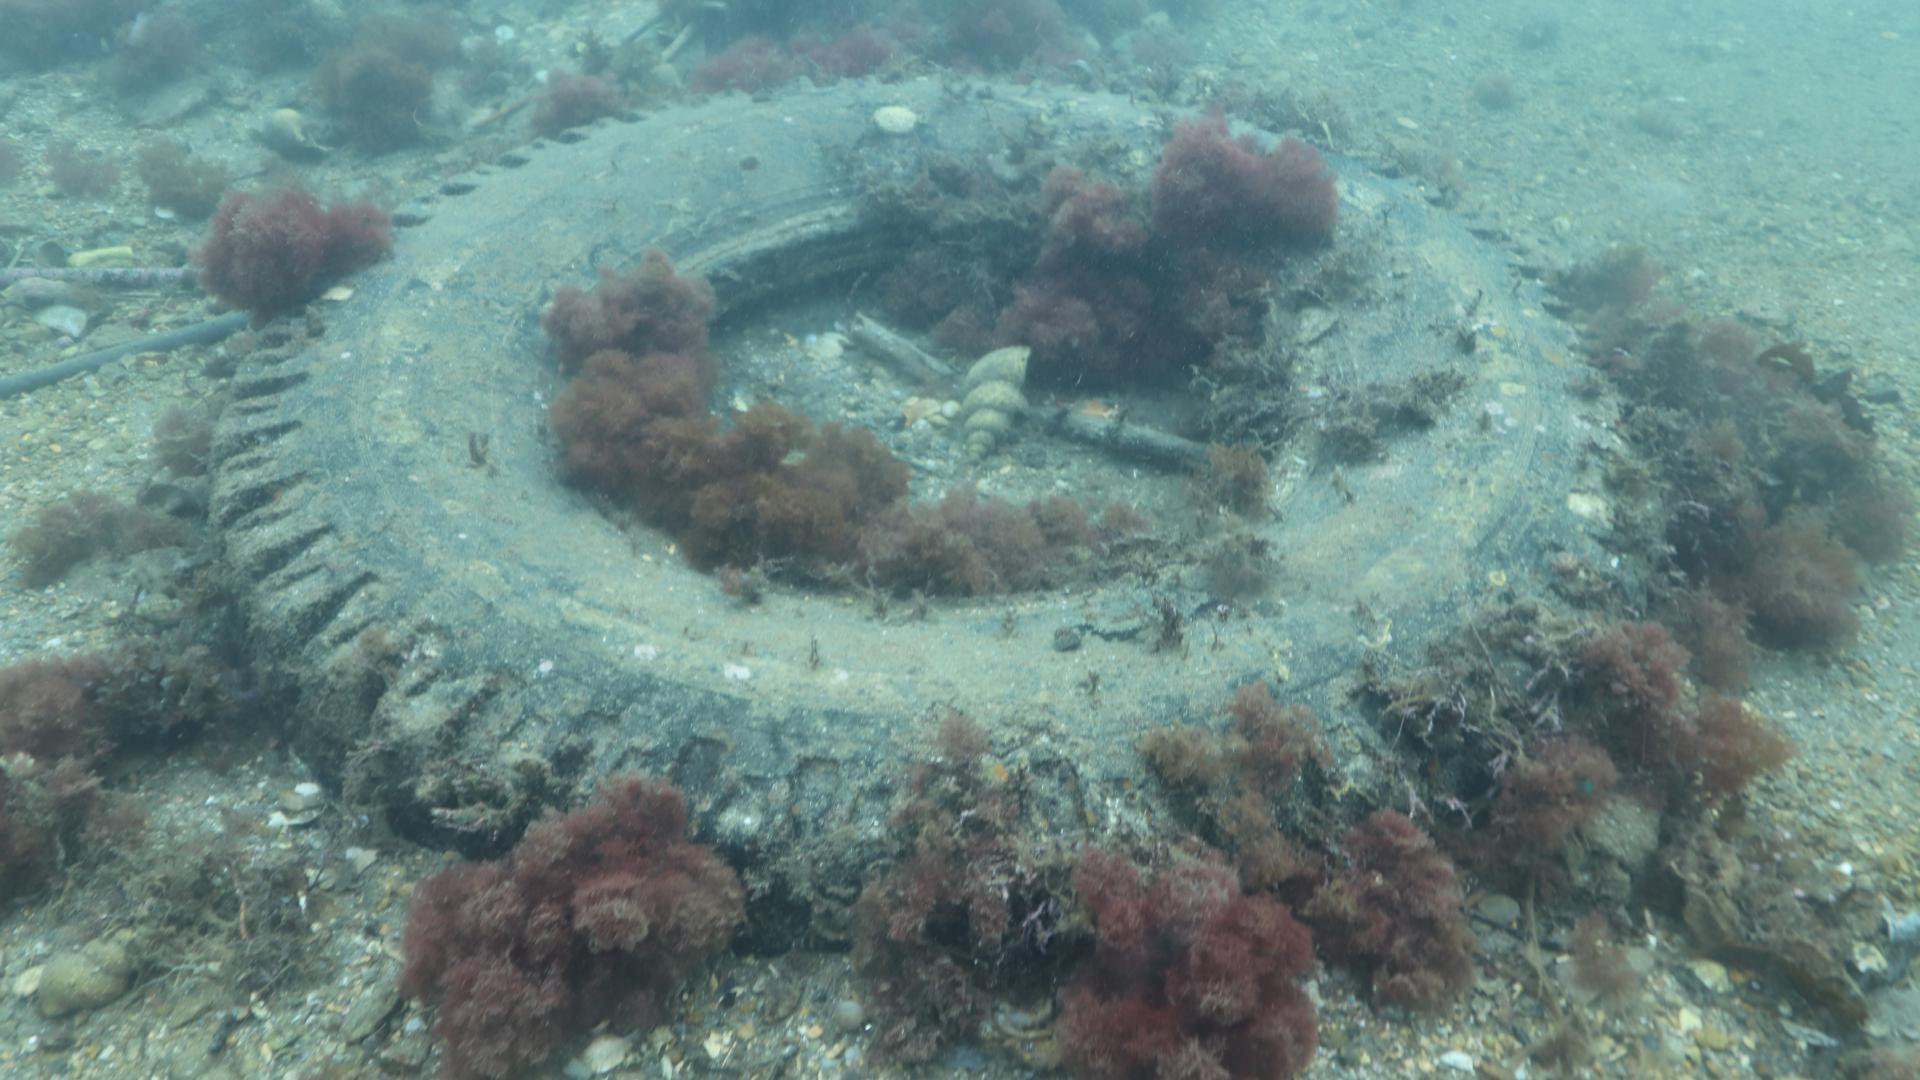tire: (207, 73, 1633, 884)
